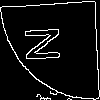N: (24, 25, 70, 63)
